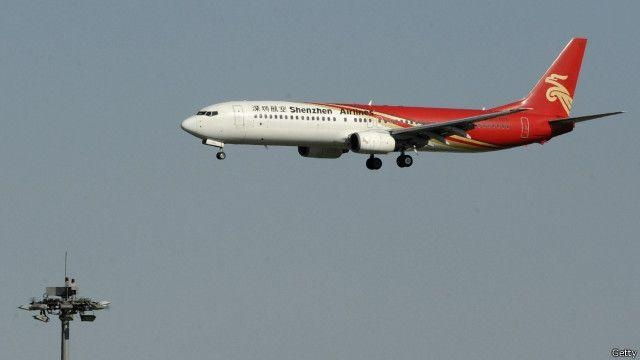airplane: (179, 32, 623, 169)
